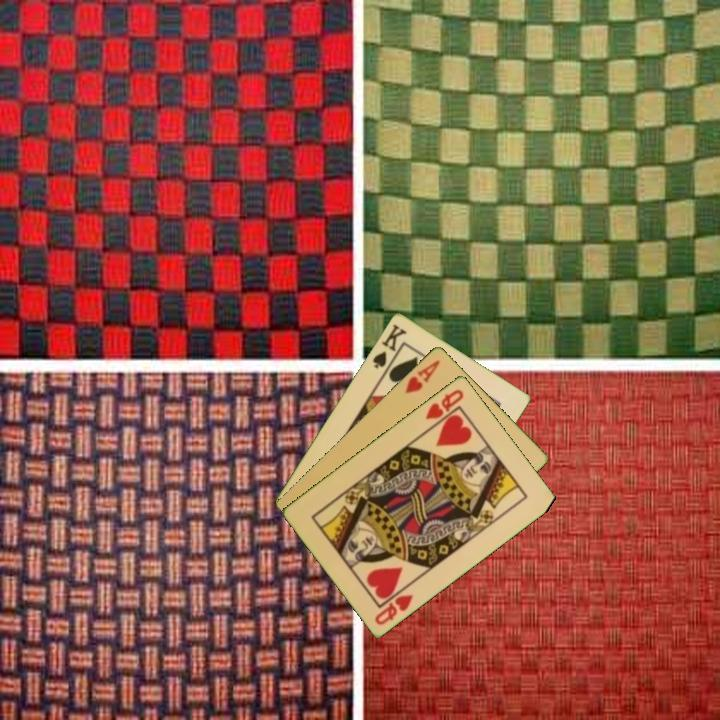Ah: (401, 356, 443, 396)
Ks: (369, 320, 409, 375)
Qh: (371, 590, 416, 628), (422, 385, 467, 422)
